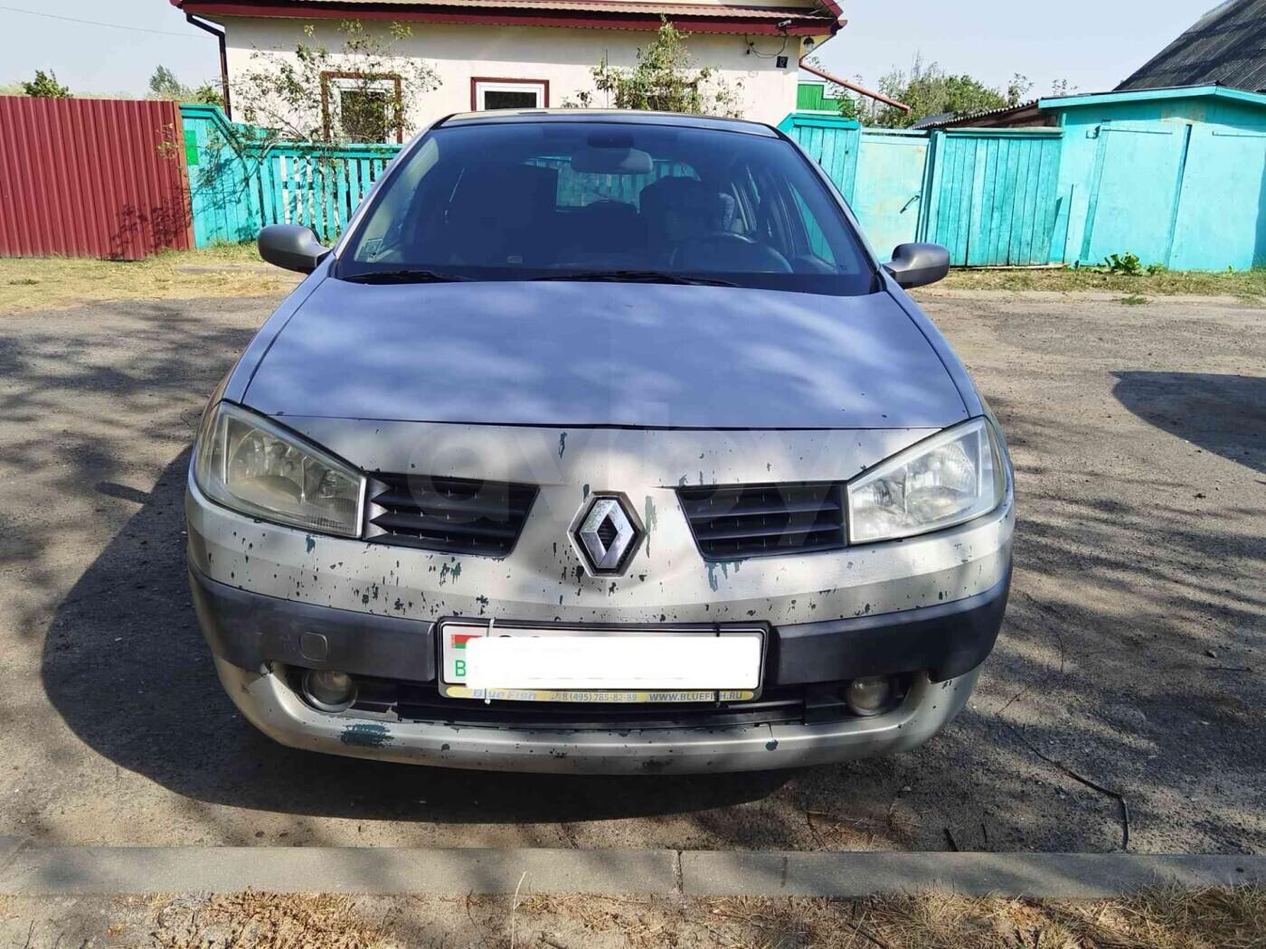Megane_2002-2006: (176, 94, 1041, 780)
